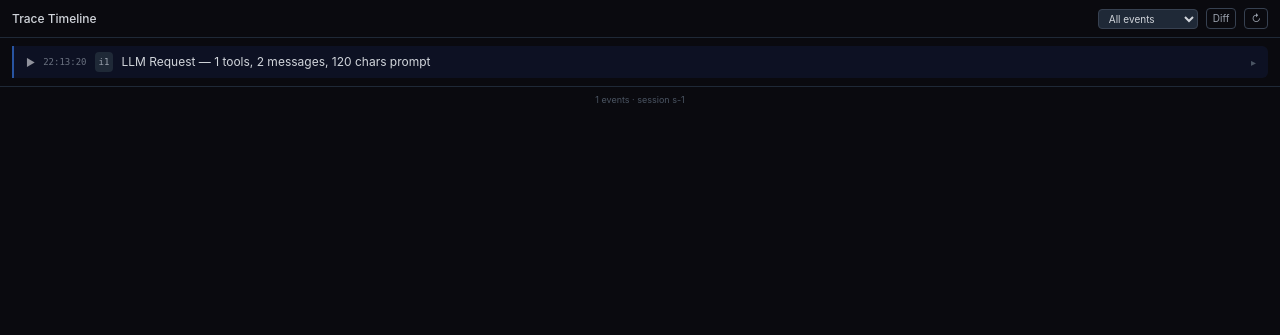
Scenario: TraceViewer › renders a reconstructed llm_request with system prompt + tools schema
The image size is (1280, 335).
Note: Expand to reveal the reconstructed envelope.
What coordinates should you click on to do the following:
click the text "LLM Request — 1 tools, 2 messages, 120 chars prompt"
I would click on:
 (276, 62)
Its box is [121, 54, 430, 70].
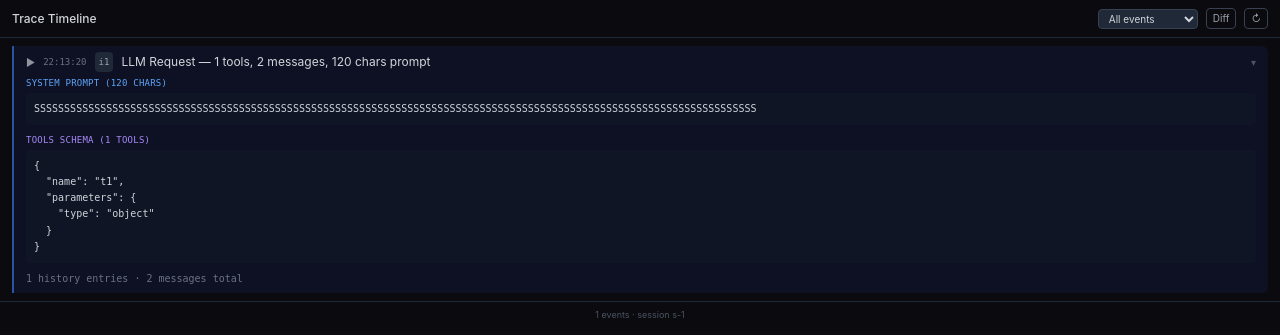
Result: the text "System prompt (120 chars)" is shown at [26, 78, 167, 88]
Result: the text "Tools schema (1 tools)" is shown at [26, 135, 150, 145]
Result: the text "{ \"name\": \"t1\", \"parameters\": { \"type\": \"object\" } }" is shown at [26, 150, 1256, 263]
